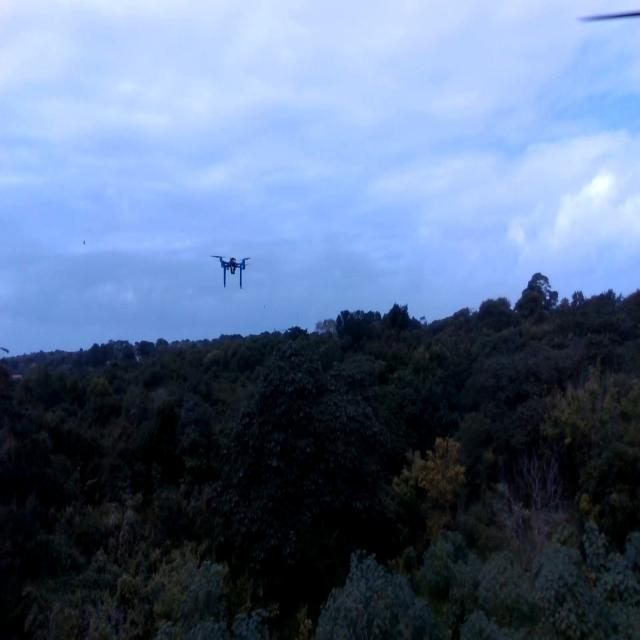-uav-: (207, 244, 256, 300)
